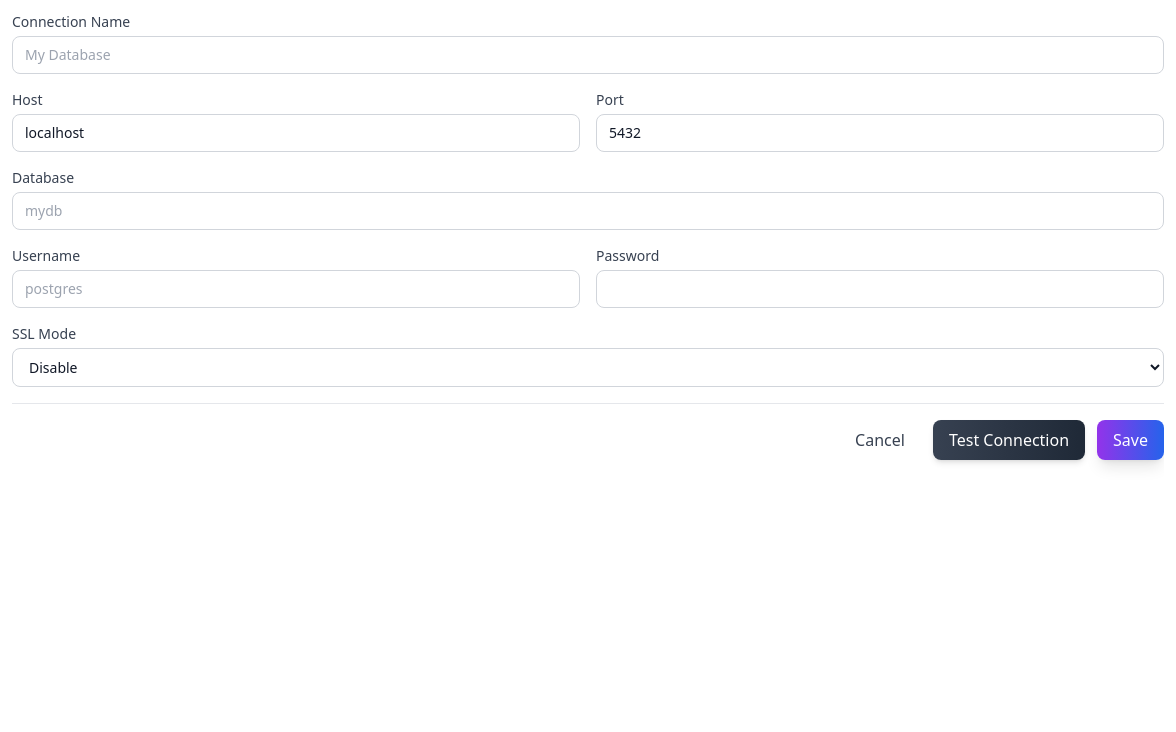
Test: ConnectionForm › validates port range
This screenshot has width=1176, height=732.
Replace the text in the number field labelled "Port" with "99999" at x=880, y=133, box [596,114,1164,152]
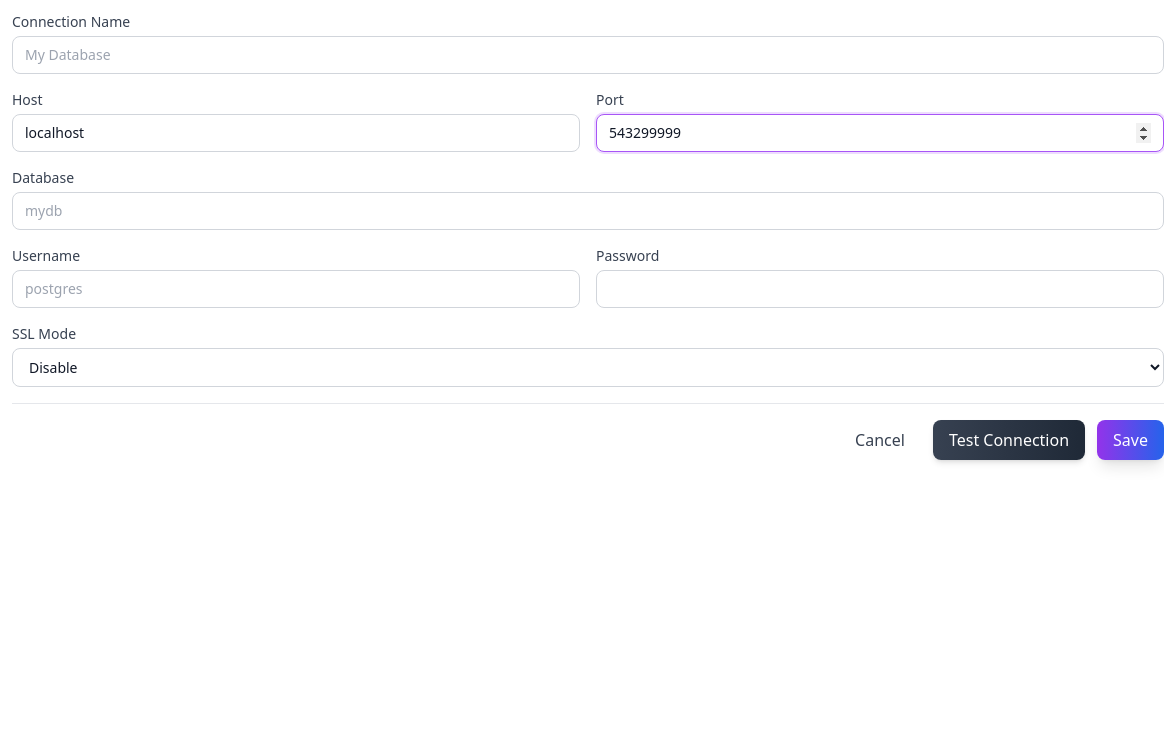
Click the button "Save" at x=1131, y=440, box [1097,420,1164,460]
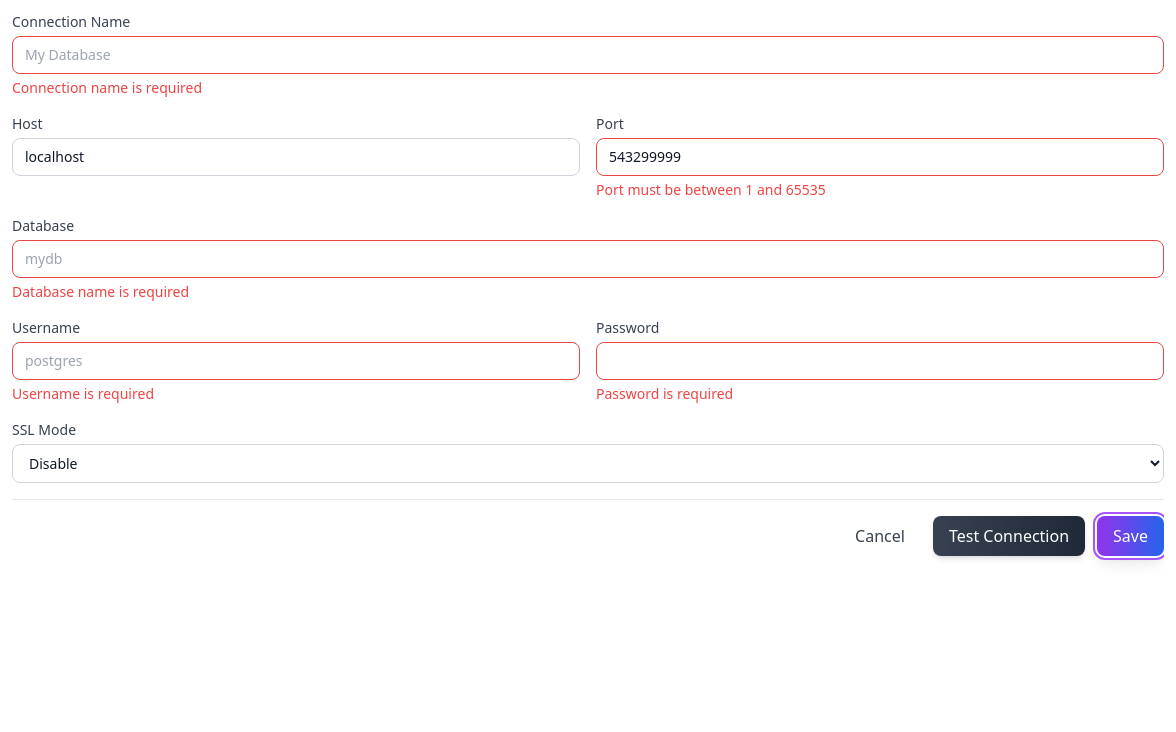
Check: the text "Port must be between 1 and 65535" is shown, box [596,180,826,199]
